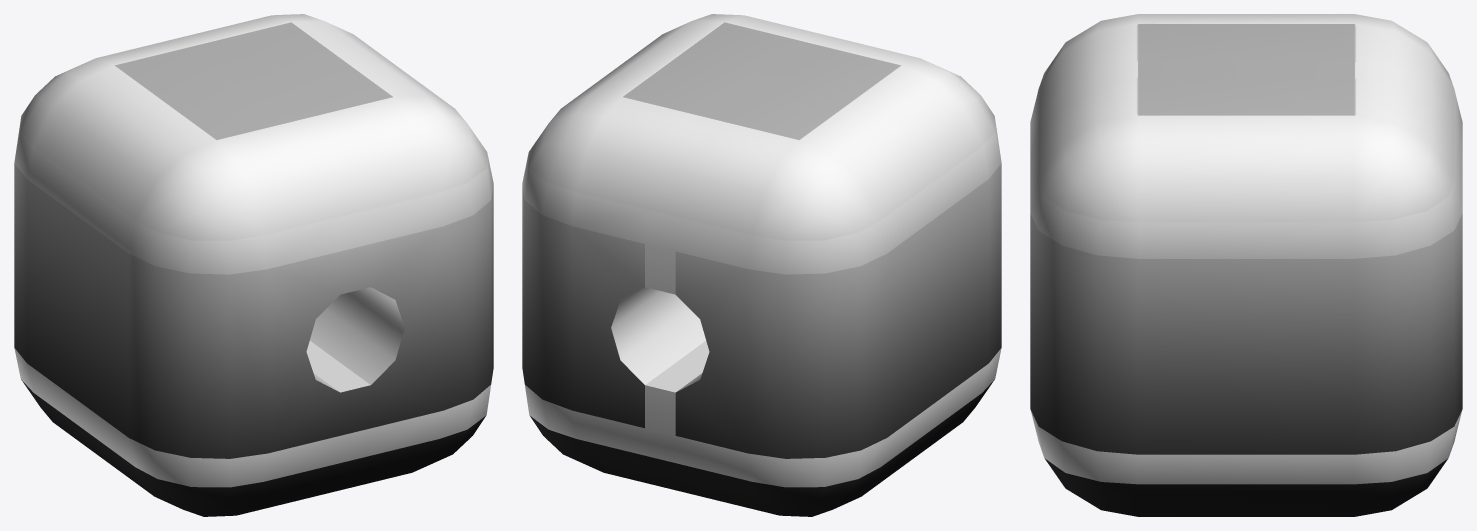
Rendered from MovingPL_1x1_V2.fbx.
The picture shows the model from 3 angles, left to right: view 1: azimuth 30°, elevation 25°; view 2: azimuth 150°, elevation 25°; view 3: azimuth 270°, elevation 25°; orthographic projection. The views are drawn at different scales.
Visible parts, largest first — view 1: MovingPL_1x1_V2; view 2: MovingPL_1x1_V2; view 3: MovingPL_1x1_V2.
Part boxes in pixels (x1=…): MovingPL_1x1_V2: x1=14, y1=14, x2=493, y2=516; MovingPL_1x1_V2: x1=522, y1=14, x2=1001, y2=516; MovingPL_1x1_V2: x1=1030, y1=14, x2=1462, y2=516.
Size of the model in its own units: 128 by 128 by 128.
2 materials, 1 textured.
